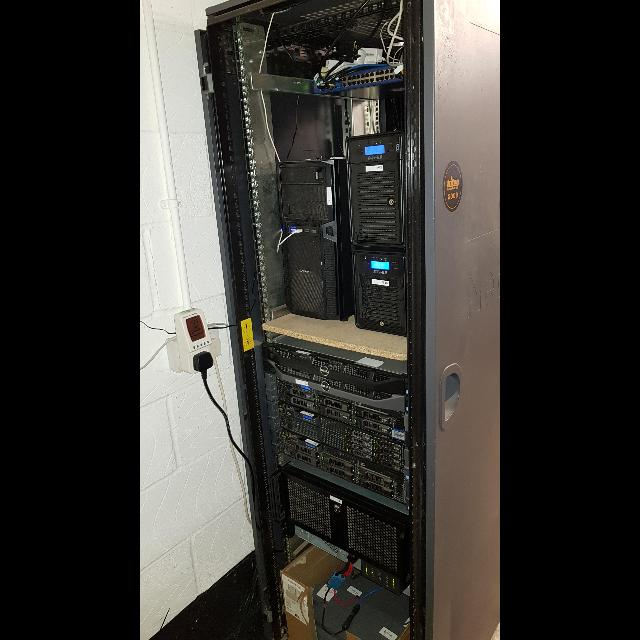Server: (204, 0, 458, 640)
